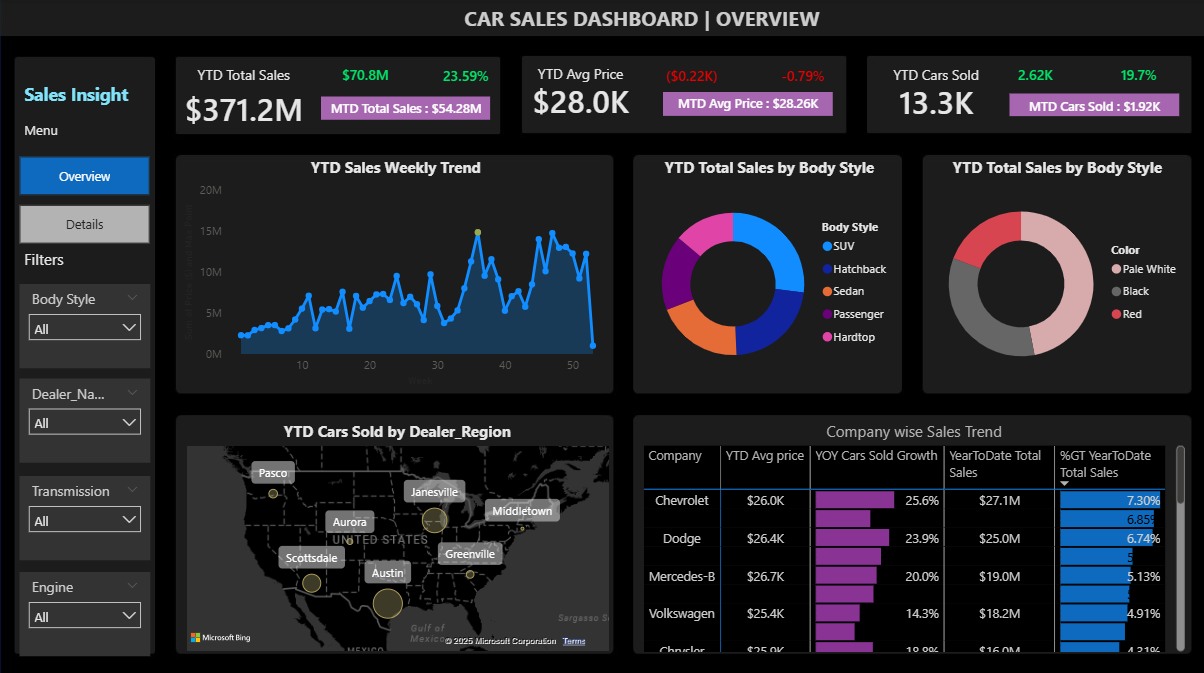

What the dashboard file says about the page in this screenshot:
{"tool":"powerbi","page":{"name":"Overview","canvas":[1280,720],"ordinal":0},"visuals":[{"type":"card","title":"YTD Total Sales","fields":{"Values":["car_data.YearToDate Total Sales"]},"box":[189.3,70,138.4,73.2],"z":0},{"type":"card","fields":{"Values":["car_data.Sales Diff"]},"box":[343.9,62.4,86.9,39.7],"z":1000},{"type":"card","fields":{"Values":["car_data.YearOnYear Sales Growth"]},"box":[449.8,62.4,86.9,41.6],"z":2000},{"type":"card","fields":{"Values":["car_data.MTD Total KPI"]},"box":[340.2,103.9,179.5,24.6],"z":3000},{"type":"card","title":"YTD Avg Price","fields":{"Values":["car_data.YTD Avg price"]},"box":[553.5,68.4,124.1,58.9],"z":4000},{"type":"card","fields":{"Values":["car_data.Avg Price Diff"]},"box":[690.3,63.6,85.9,39.8],"z":5000},{"type":"card","fields":{"Values":["car_data.YOY Avg Price Growth"]},"box":[808,63.6,85.9,39.8],"z":6000},{"type":"card","fields":{"Values":["car_data.MTD Avg Price KPI"]},"box":[703.1,98.6,179.7,25.4],"z":7000},{"type":"card","title":"YTD Cars Sold","fields":{"Values":["car_data.YTD Cars Sold"]},"box":[930.5,70,124.1,58.9],"z":8000},{"type":"card","fields":{"Values":["car_data.Cars Sold Diff"]},"box":[1054.6,62,85.9,39.8],"z":9000},{"type":"card","fields":{"Values":["car_data.YOY Cars Sold Growth"]},"box":[1164.3,62,85.9,39.8],"z":10000},{"type":"card","fields":{"Values":["car_data.MTD Cars Sold KPI"]},"box":[1070.5,100.2,179.7,23.9],"z":11000},{"type":"areaChart","title":"YTD Sales Weekly Trend","fields":{"Category":["Calendar Table.Week"],"Y":["Sum(car_data.Price ($))","car_data.Max Point"]},"box":[189.3,167,461.3,248.1],"z":12000},{"type":"donutChart","title":"YTD Total Sales by Body Style","fields":{"Category":["car_data.Body Style"],"Y":["car_data.YearToDate Total Sales"]},"box":[677.6,167,276.8,248.1],"z":13000},{"type":"donutChart","title":"YTD Total Sales by Body Style","fields":{"Y":["car_data.YearToDate Total Sales"],"Category":["car_data.Color"]},"box":[981.4,167,279.9,248.1],"z":14000},{"type":"map","fields":{"Category":["car_data.Dealer_Region"],"Size":["car_data.YTD Cars Sold"]},"box":[192.5,447,458.1,249.7],"z":15000},{"type":"pivotTable","title":"Company wise Sales Trend","fields":{"Rows":["car_data.Company"],"Values":["car_data.YTD Avg price","car_data.YOY Cars Sold Growth","car_data.YearToDate Total Sales1","car_data.YearToDate Total Sales"]},"box":[677.6,447,583.8,249.7],"z":16000},{"type":"textbox","box":[407.2,0,547.2,46.1],"z":17000},{"type":"slicer","fields":{"Values":["car_data.Body Style"]},"box":[20.7,302.2,138.4,89.1],"z":18000},{"type":"slicer","fields":{"Values":["car_data.Dealer_Name"]},"box":[20.7,402.4,138.4,89.1],"z":19000},{"type":"slicer","fields":{"Values":["car_data.Transmission"]},"box":[20.7,505.8,138.4,89.1],"z":20000},{"type":"slicer","fields":{"Values":["car_data.Engine"]},"box":[20.7,607.6,138.4,89.1],"z":21000},{"type":"textbox","box":[20.7,259.3,138.4,31.8],"z":22000},{"type":"textbox","box":[20.7,82.7,138.4,46.1],"z":22001},{"type":"textbox","box":[20.7,124.1,105,42.9],"z":22002},{"type":"pageNavigator","box":[20.7,167,138.4,92.3],"z":22003}]}

Visuals, with their boxes in screenshot pixels (x1, y1, x2, y2), scaled from the page's 1280x720 canvas onto the 1204x673 screenshot:
"YTD Total Sales" card: 178:65:308:134
card - car_data.Sales Diff: 323:58:405:95
card - car_data.YearOnYear Sales Growth: 423:58:505:97
card - car_data.MTD Total KPI: 320:97:489:120
"YTD Avg Price" card: 521:64:637:119
card - car_data.Avg Price Diff: 649:59:730:97
card - car_data.YOY Avg Price Growth: 760:59:841:97
card - car_data.MTD Avg Price KPI: 661:92:830:116
"YTD Cars Sold" card: 875:65:992:120
card - car_data.Cars Sold Diff: 992:58:1073:95
card - car_data.YOY Cars Sold Growth: 1095:58:1176:95
card - car_data.MTD Cars Sold KPI: 1007:94:1176:116
"YTD Sales Weekly Trend" areaChart: 178:156:612:388
"YTD Total Sales by Body Style" donutChart: 637:156:898:388
"YTD Total Sales by Body Style" donutChart: 923:156:1186:388
map - car_data.Dealer_Region x car_data.YTD Cars Sold: 181:418:612:651
"Company wise Sales Trend" pivotTable: 637:418:1187:651
textbox: 383:0:898:43
slicer - car_data.Body Style: 19:282:150:366
slicer - car_data.Dealer_Name: 19:376:150:459
slicer - car_data.Transmission: 19:473:150:556
slicer - car_data.Engine: 19:568:150:651
textbox: 19:242:150:272
textbox: 19:77:150:120
textbox: 19:116:118:156
pageNavigator: 19:156:150:242
